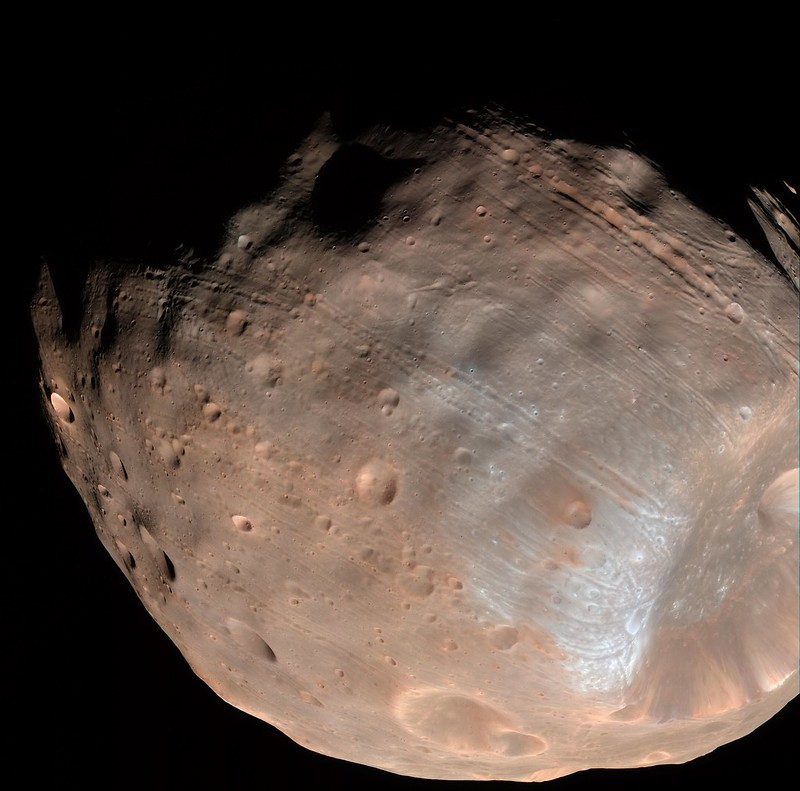crater: (379, 670, 565, 762), (131, 482, 205, 584), (334, 452, 422, 513), (219, 612, 288, 676), (477, 602, 537, 663), (550, 475, 598, 544), (444, 426, 493, 487), (214, 498, 281, 541), (211, 301, 275, 345), (45, 374, 89, 427), (521, 329, 565, 375), (731, 384, 762, 444), (457, 191, 504, 226), (718, 300, 759, 340), (352, 237, 374, 266), (474, 229, 499, 253), (508, 227, 530, 251)
